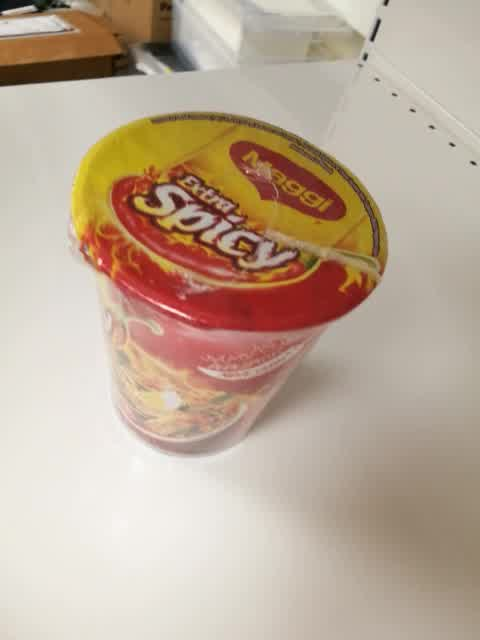maggi: (68, 111, 390, 459)
